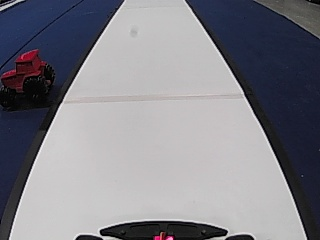Tracktor: (0, 44, 57, 109)
